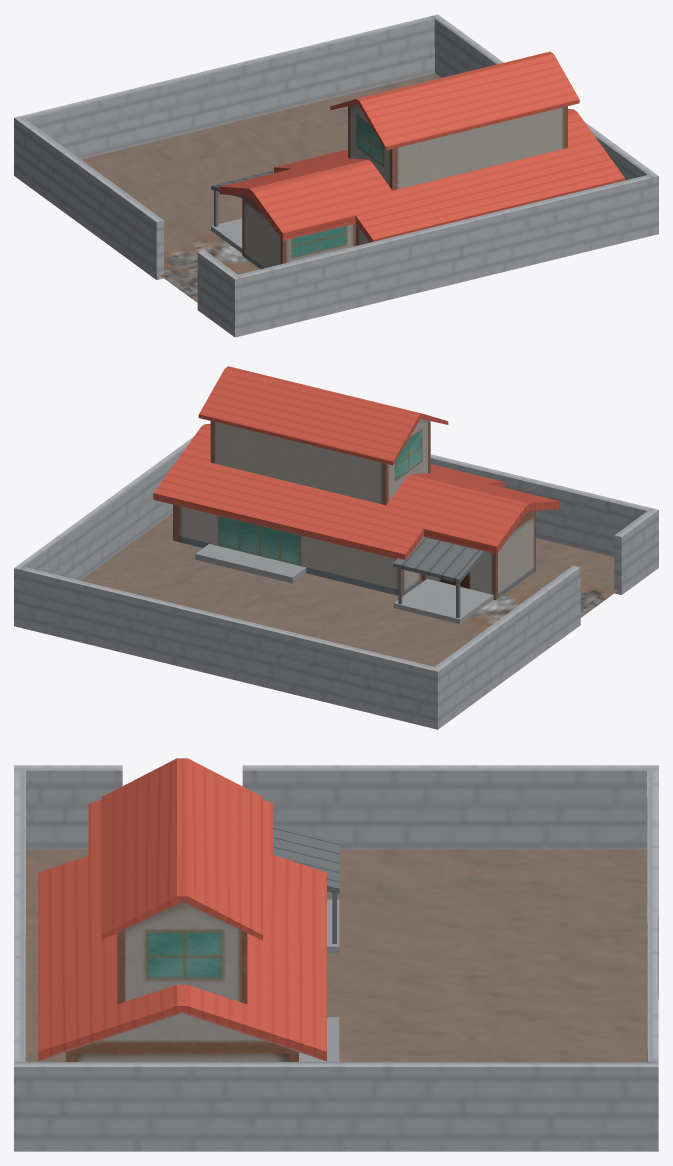
File: nobi1.fbx
The picture shows the model from 3 angles, top to bottom: view 1: azimuth 30°, elevation 25°; view 2: azimuth 150°, elevation 25°; view 3: azimuth 270°, elevation 25°; orthographic projection. The views are drawn at different scales.
Parts seen in each view (by area): view 1: polySurface14, pCube50, pCube51, polySurface10, pCube53; view 2: polySurface14, pCube50, polySurface10, pCube51, pCube53, pCube54, pCube59; view 3: polySurface14, polySurface10, pCube50, pCube51, pCube54, pCube59.
Boxes of the visible parts, left/top/right/bottom form: polySurface14: left=14, top=14, right=658, bottom=337; pCube50: left=219, top=109, right=625, bottom=268; pCube51: left=330, top=51, right=579, bottom=190; polySurface10: left=81, top=73, right=440, bottom=302; pCube53: left=211, top=218, right=242, bottom=253; polySurface14: left=14, top=436, right=658, bottom=729; pCube50: left=153, top=423, right=559, bottom=600; polySurface10: left=80, top=513, right=617, bottom=666; pCube51: left=198, top=366, right=448, bottom=505; pCube53: left=393, top=578, right=493, bottom=624; pCube54: left=393, top=537, right=486, bottom=583; pCube59: left=195, top=544, right=306, bottom=583; polySurface14: left=14, top=765, right=658, bottom=1151; polySurface10: left=26, top=849, right=646, bottom=1061; pCube50: left=38, top=799, right=326, bottom=1061; pCube51: left=101, top=758, right=262, bottom=1004; pCube54: left=273, top=825, right=339, bottom=894; pCube59: left=299, top=1017, right=339, bottom=1061.
Size of the model in its own units: 27.86 by 9.54 by 25.17.
Materials: 1 (1 with a texture image).
